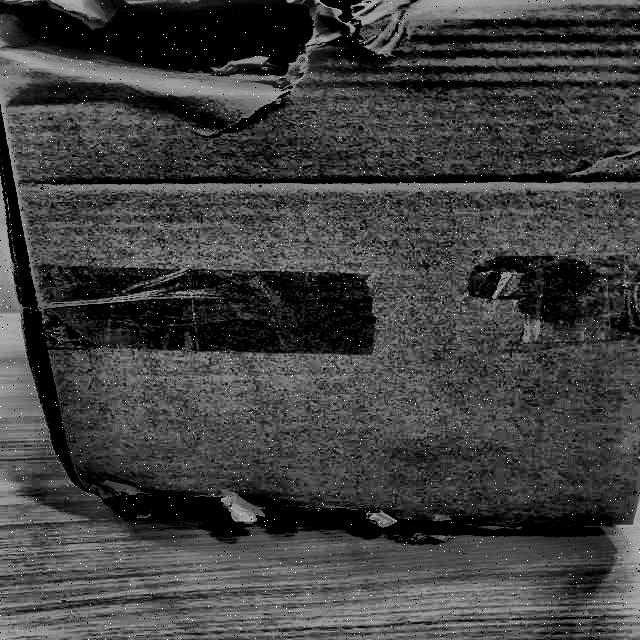box: (0, 0, 639, 541)
hole: (0, 0, 396, 135), (95, 459, 487, 537)
